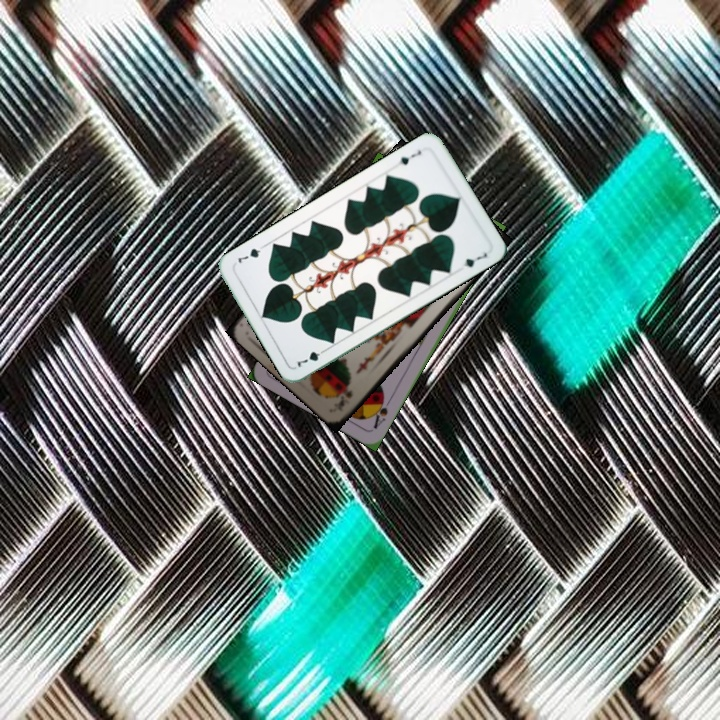G7: (290, 344, 330, 370), (395, 146, 424, 168)
SA: (368, 392, 394, 432)
SK: (336, 384, 355, 409)
